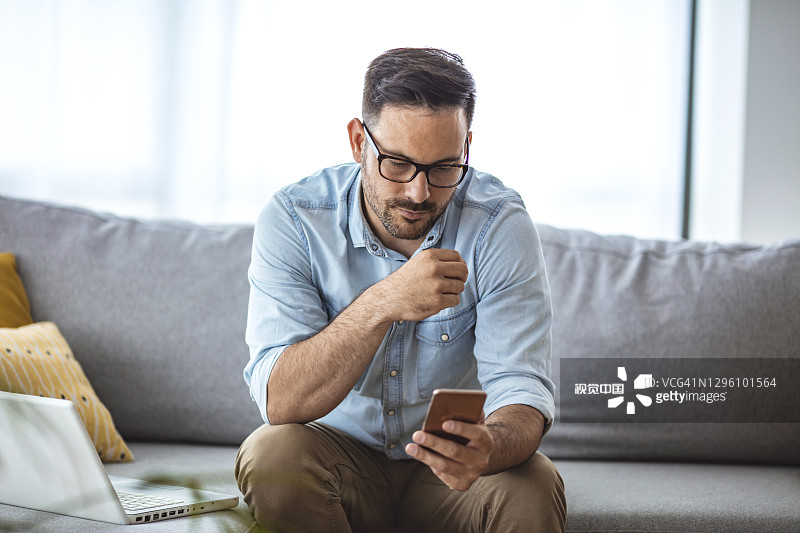no-phone: (352, 231, 477, 335)
reading: (388, 380, 521, 502)
